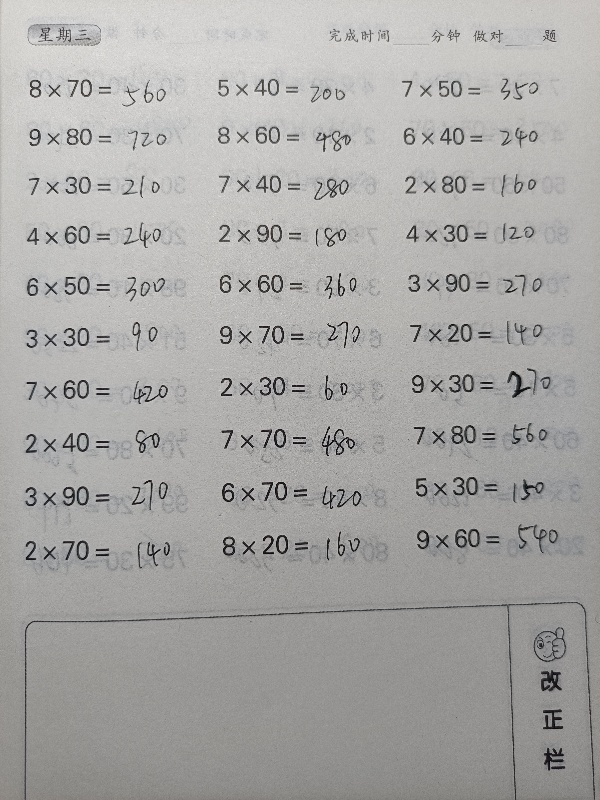equation: (213, 525, 393, 569), (216, 416, 375, 459), (209, 71, 389, 108), (407, 520, 587, 556), (17, 478, 197, 514), (212, 473, 392, 509), (406, 468, 586, 504), (18, 371, 198, 407), (17, 532, 197, 567), (16, 425, 196, 460), (406, 417, 586, 452), (212, 369, 392, 404), (17, 319, 197, 354), (17, 268, 197, 303), (18, 217, 198, 252), (402, 366, 582, 400), (211, 317, 391, 351), (402, 316, 582, 350), (211, 267, 391, 301), (400, 266, 580, 300), (211, 217, 391, 251), (19, 168, 199, 202), (397, 168, 577, 202), (21, 72, 201, 106), (398, 217, 578, 250), (210, 168, 390, 201), (21, 121, 201, 154), (395, 120, 575, 153), (209, 119, 389, 152), (394, 73, 574, 106)
